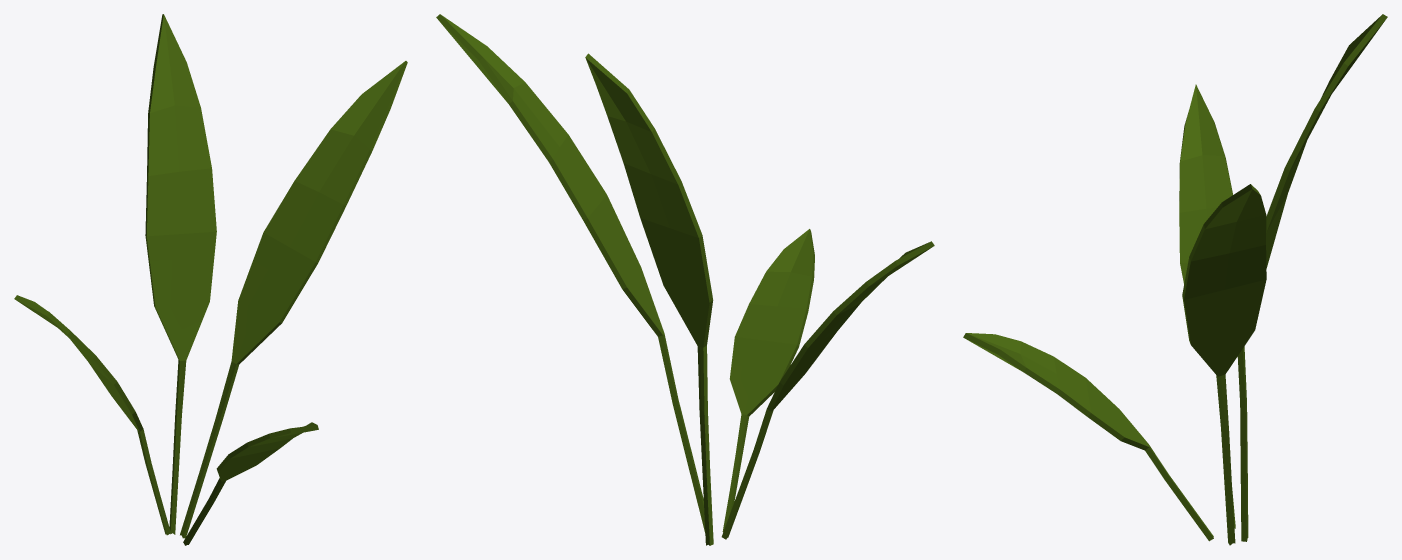
Rendered from PlantYard_2_v003(UV_Unwrapped).fbx.
3 renders of one model, left to right at view 1: azimuth 30°, elevation 25°; view 2: azimuth 150°, elevation 25°; view 3: azimuth 270°, elevation 25°, orthographic. The views are drawn at different scales.
Parts seen in each view (by area): view 1: Plant; view 2: Plant; view 3: Plant.
Part boxes in pixels (x1=…): Plant: x1=14, y1=14, x2=407, y2=545; Plant: x1=436, y1=14, x2=934, y2=545; Plant: x1=963, y1=14, x2=1387, y2=545.
Size of the model in its own units: 693 by 741 by 513.
